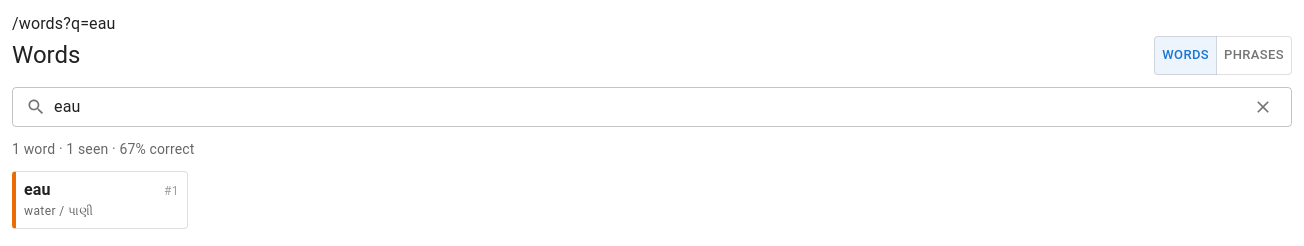
Test: /words?set=phrases › toggles to the phrase deck, keeping the filter, and links tiles with the deck
The image size is (1304, 246).
Check: the text "/words?q=eau" is shown, box [12, 14, 116, 33]
Check: the number of links is 1, box [12, 171, 188, 229]
Click the button "Phrases".
click(1254, 55)  # box [1216, 36, 1292, 75]
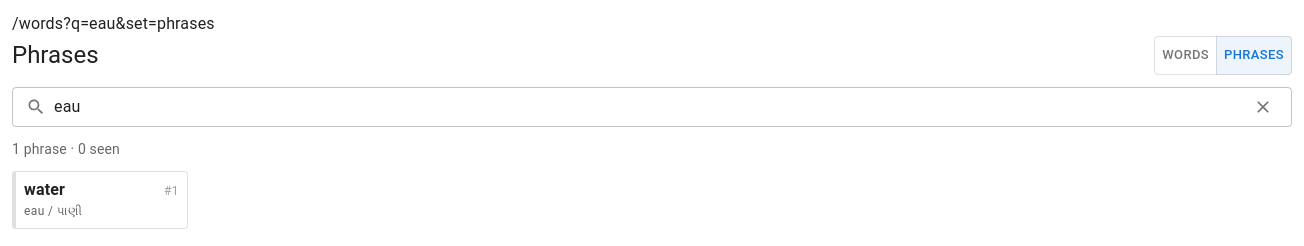
Check: the text with test id "location" reads "/words?q=eau&set=phrases", box [12, 14, 215, 33]
Check: the heading reads "Phrases", box [12, 41, 99, 69]
Check: the text "water" is shown, box [24, 180, 65, 199]
Click the button "Words".
click(1186, 55)  # box [1154, 36, 1217, 75]
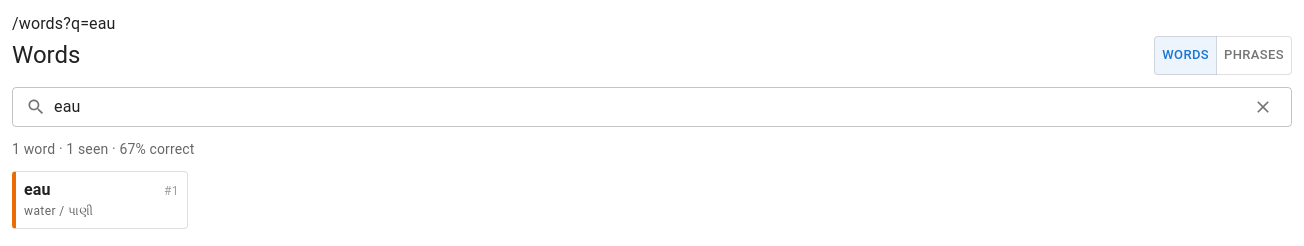
Check: the text with test id "location" reads "/words?q=eau", box [12, 14, 116, 33]
Check: the text "1 word · 1 seen · 67% correct" is shown, box [12, 141, 194, 157]
